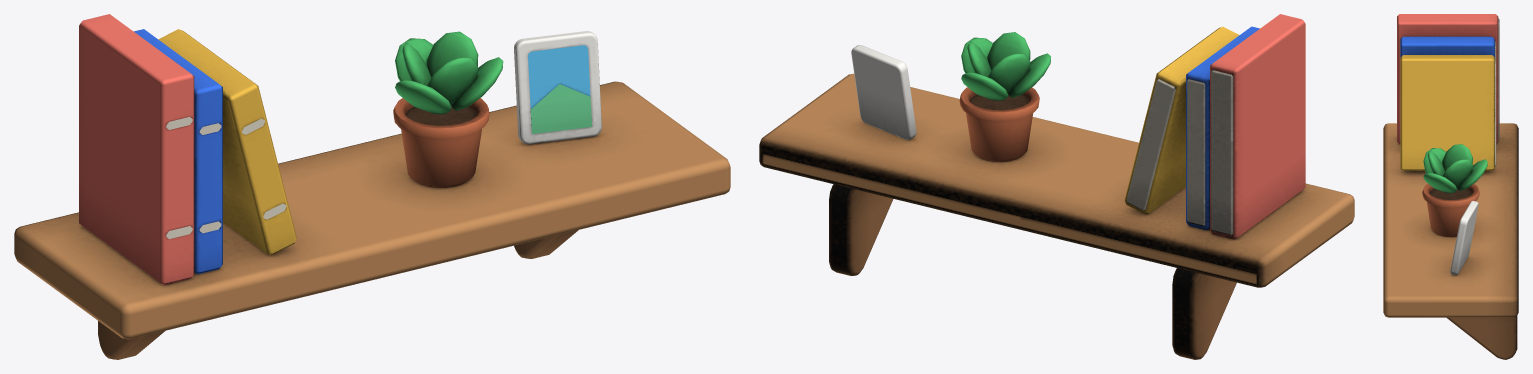
File: wall_shelf.glb
3 views of the same model, side by side, from view 1: azimuth 30°, elevation 25°; view 2: azimuth 150°, elevation 25°; view 3: azimuth 270°, elevation 25° (orthographic). The views are drawn at different scales.
Visible parts, largest first — view 1: wall_shelf; view 2: wall_shelf; view 3: wall_shelf.
Part boxes in pixels (x1,y1,x2,y2): wall_shelf: (14, 14, 730, 359); wall_shelf: (759, 14, 1354, 359); wall_shelf: (1383, 14, 1518, 359).
Bounding box in the file's own units: 0.62 × 0.3423 × 0.2.
Materials: 12 (12 with a texture image).
